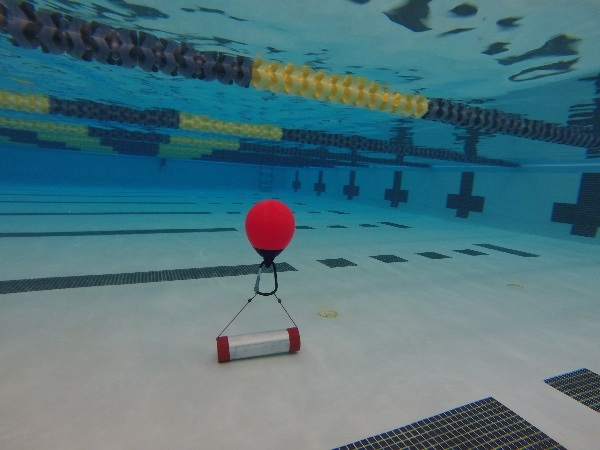buoy_red: (243, 199, 298, 272)
